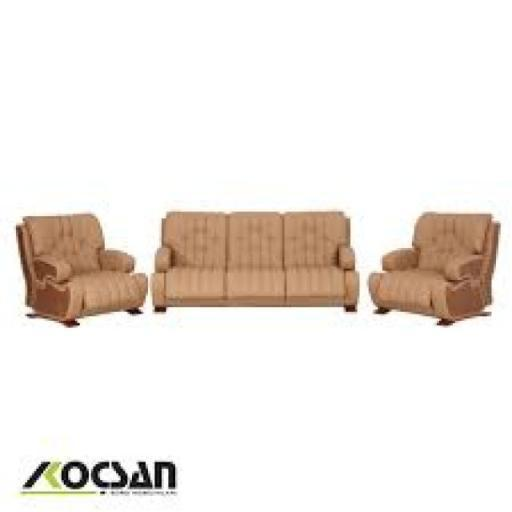sofa: (18, 171, 506, 366)
